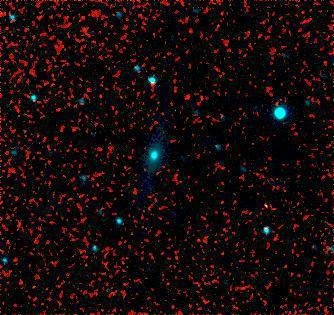star: (254, 190, 284, 220)
